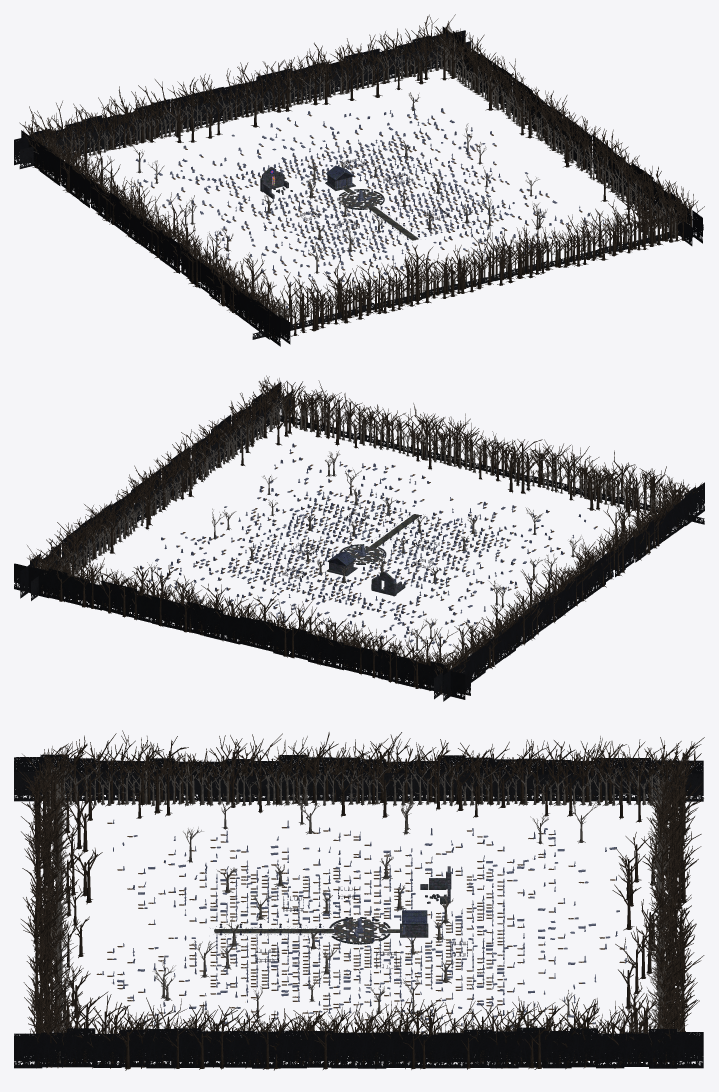
Rendered from graveyard.glb.
The picture shows the model from 3 angles, top to bottom: view 1: azimuth 30°, elevation 25°; view 2: azimuth 150°, elevation 25°; view 3: azimuth 270°, elevation 25°; orthographic projection. The views are drawn at different scales.
Visible parts, largest first — view 1: environment-bark, environment-thicket, environment-deadwood, ruin-mesh-0, environment-flagstone; view 2: environment-bark, environment-thicket, environment-deadwood, ruin-mesh-0; view 3: environment-bark, environment-thicket, environment-deadwood, environment-flagstone, environment-cobble, ruin-mesh-0.
Part boxes in pixels (left/top/right/bottom): environment-bark: left=19, top=14, right=704, bottom=338; environment-thicket: left=14, top=26, right=703, bottom=346; environment-deadwood: left=33, top=37, right=684, bottom=333; ruin-mesh-0: left=260, top=167, right=292, bottom=198; environment-flagstone: left=339, top=190, right=381, bottom=208; environment-bark: left=27, top=375, right=702, bottom=695; environment-thicket: left=14, top=382, right=704, bottom=701; environment-deadwood: left=37, top=393, right=684, bottom=672; ruin-mesh-0: left=371, top=571, right=405, bottom=596; environment-bark: left=18, top=730, right=704, bottom=1070; environment-thicket: left=14, top=754, right=703, bottom=1068; environment-deadwood: left=36, top=760, right=687, bottom=1063; environment-flagstone: left=331, top=919, right=388, bottom=942; environment-cobble: left=214, top=927, right=399, bottom=935; ruin-mesh-0: left=420, top=866, right=451, bottom=904.
Size of what is drawn, in the model's own units: 209 by 23.54 by 209.
Materials: 10 (10 with a texture image).
